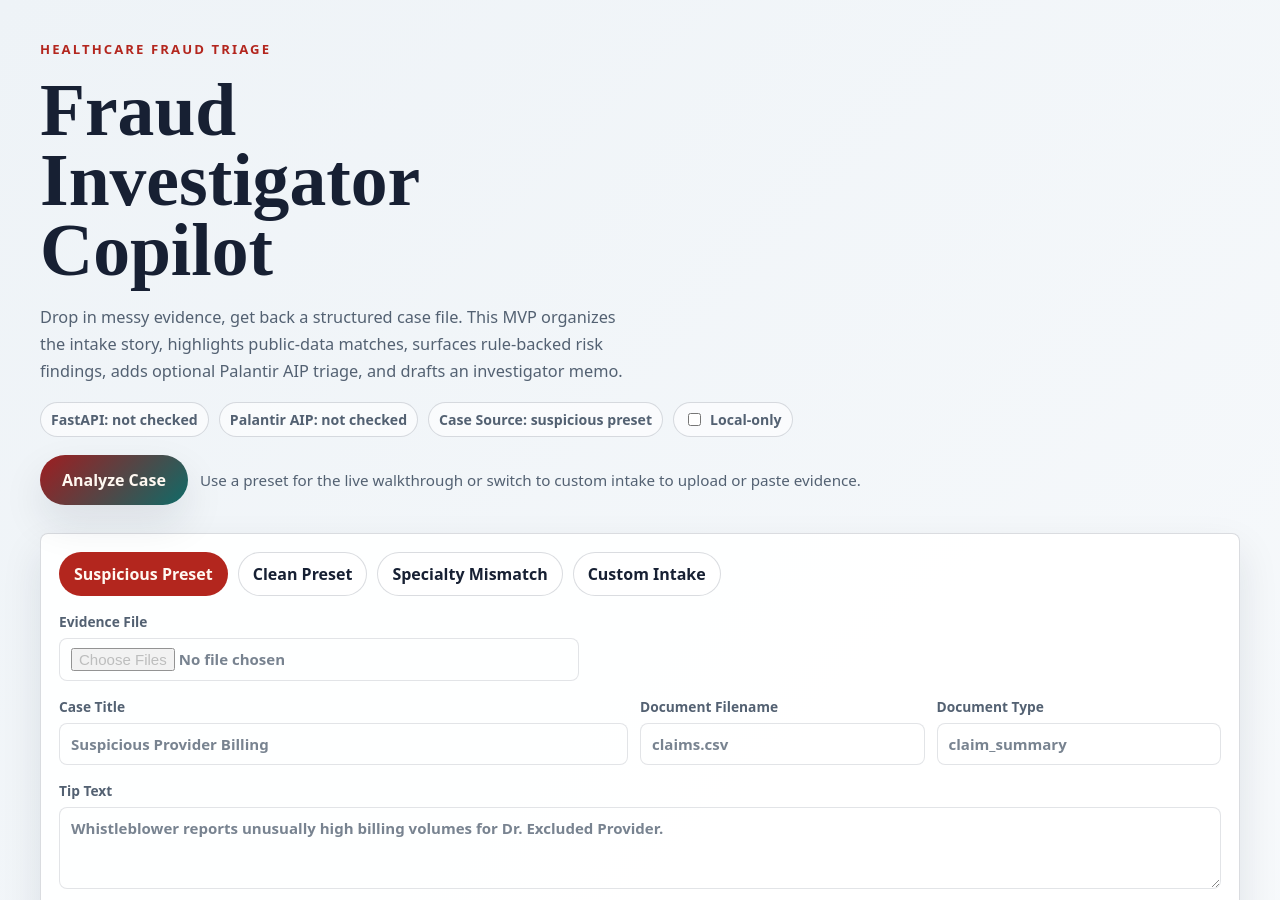
HomePage › prefers the API-backed case payload when the backend is reachable
Click the button "Analyze Case".
click(114, 480)  # box 40,455 -> 188,505
(page scrolled)
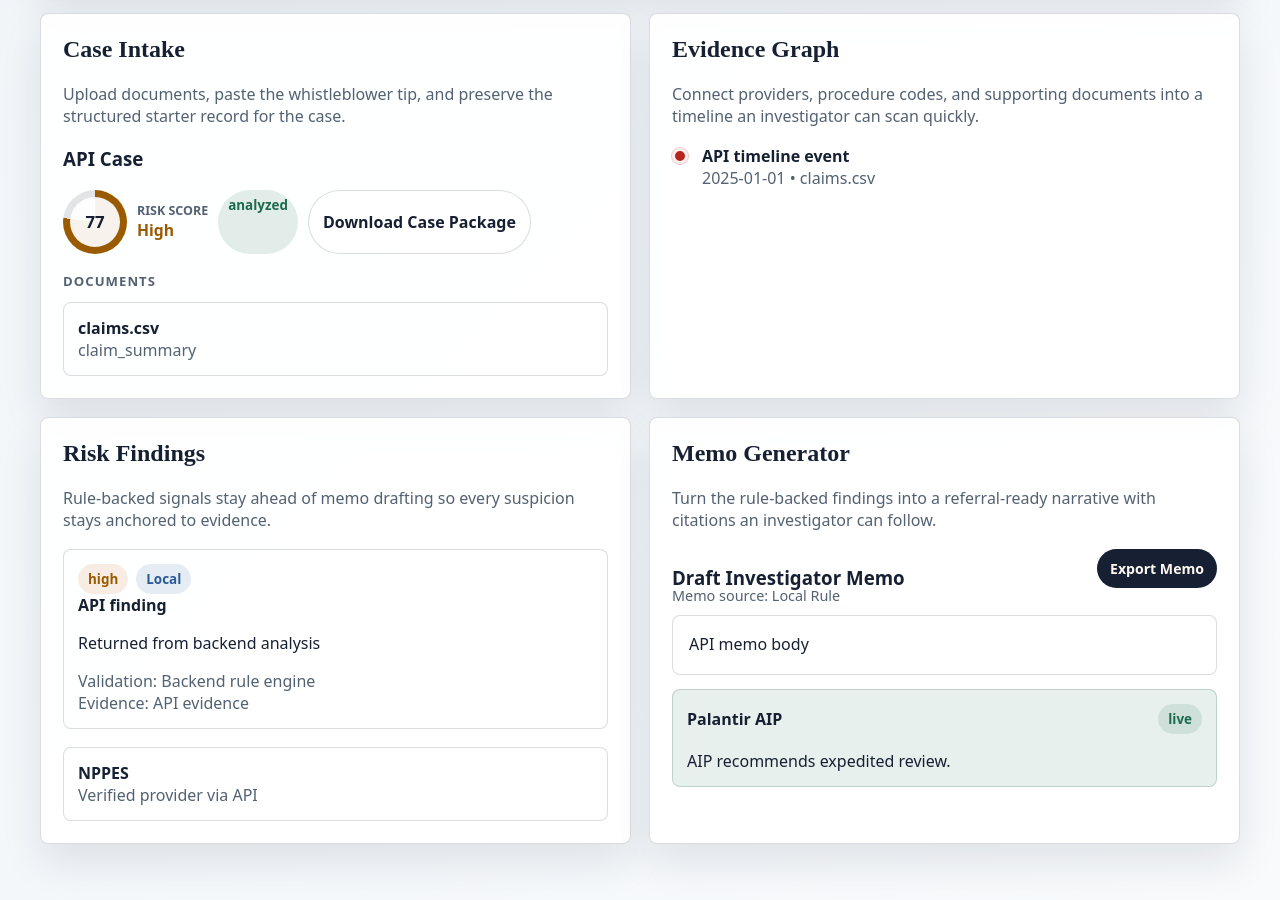
Check: the text "API finding" is shown, box 78,594 -> 167,616
Check: the text "API memo body" is shown, box 689,633 -> 809,655
Check: the text "AIP recommends expedited review." is shown, box 687,750 -> 951,772
